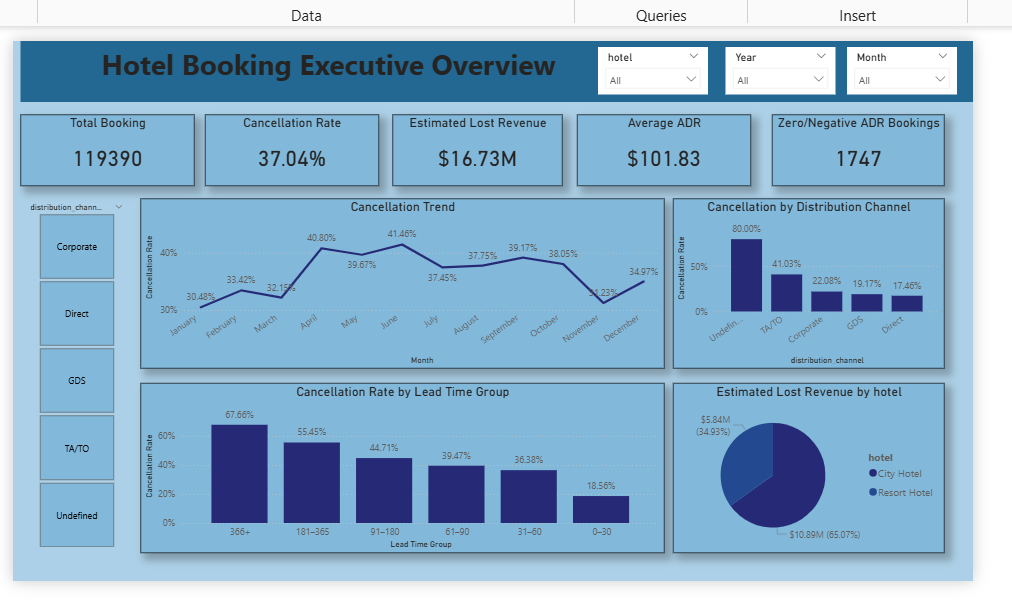

This screenshot's page, from the dashboard's own definition file:
{"tool":"powerbi","page":{"name":"Executive Overview","canvas":[1280,720],"ordinal":0},"visuals":[{"type":"textbox","box":[9.4,0,1269.9,81.3],"z":0},{"type":"card","title":"Total Booking","fields":{"Values":["DAX.Total Booking"]},"box":[10,98.3,231.7,95],"z":1000},{"type":"card","title":"Cancellation Rate","fields":{"Values":["DAX.Cancellation Rate"]},"box":[256.7,98.3,231.7,95],"z":2000},{"type":"card","title":"Estimated Lost Revenue","fields":{"Values":["DAX.Estimated Lost Revenue"]},"box":[506.7,98.3,226.7,95],"z":3000},{"type":"card","title":"Average ADR","fields":{"Values":["DAX.Average ADR"]},"box":[751.7,98.3,231.7,95],"z":4000},{"type":"card","title":"Zero/Negative ADR Bookings","fields":{"Values":["DAX.Zero Negative ADR"]},"box":[1011.7,98.3,230,95],"z":5000},{"type":"lineChart","title":"Cancellation Trend","fields":{"Category":["hotel_booking_clean.arrival_date.Variation.Date Hierarchy.Month"],"Y":["DAX.Cancellation Rate"]},"box":[170,210,698.3,226.7],"z":6000},{"type":"clusteredColumnChart","fields":{"Category":["hotel_booking_clean.Lead Time Group"],"Y":["DAX.Cancellation Rate"]},"box":[170,455,698.3,226.7],"z":7000},{"type":"clusteredColumnChart","title":"Cancellation by Distribution Channel","fields":{"Category":["hotel_booking_clean.distribution_channel"],"Y":["DAX.Cancellation Rate"]},"box":[880,210,361.7,226.7],"z":8000},{"type":"pieChart","fields":{"Category":["hotel_booking_clean.hotel"],"Y":["DAX.Estimated Lost Revenue"]},"box":[880,455,361.7,226.7],"z":9000},{"type":"slicer","fields":{"Values":["hotel_booking_clean.distribution_channel"]},"box":[10,210,148.3,471.7],"z":10000},{"type":"slicer","fields":{"Values":["hotel_booking_clean.hotel"]},"box":[780,8.3,146.7,63.3],"z":11000},{"type":"slicer","fields":{"Values":["hotel_booking_clean.arrival_date.Variation.Date Hierarchy.Year"]},"box":[950,8.3,146.7,63.3],"z":12000},{"type":"slicer","fields":{"Values":["hotel_booking_clean.arrival_date.Variation.Date Hierarchy.Month"]},"box":[1111.7,8.3,146.7,63.3],"z":13000}]}

Visuals, with their boxes in screenshot pixels (x1, y1, x2, y2):
textbox: {"x1": 15, "y1": 37, "x2": 970, "y2": 98}
"Total Booking" card: {"x1": 15, "y1": 111, "x2": 190, "y2": 182}
"Cancellation Rate" card: {"x1": 201, "y1": 111, "x2": 375, "y2": 182}
"Estimated Lost Revenue" card: {"x1": 389, "y1": 111, "x2": 559, "y2": 182}
"Average ADR" card: {"x1": 573, "y1": 111, "x2": 747, "y2": 182}
"Zero/Negative ADR Bookings" card: {"x1": 769, "y1": 111, "x2": 942, "y2": 182}
"Cancellation Trend" lineChart: {"x1": 136, "y1": 195, "x2": 661, "y2": 365}
clusteredColumnChart - hotel_booking_clean.Lead Time Group x DAX.Cancellation Rate: {"x1": 136, "y1": 379, "x2": 661, "y2": 550}
"Cancellation by Distribution Channel" clusteredColumnChart: {"x1": 670, "y1": 195, "x2": 942, "y2": 365}
pieChart - hotel_booking_clean.hotel x DAX.Estimated Lost Revenue: {"x1": 670, "y1": 379, "x2": 942, "y2": 550}
slicer - hotel_booking_clean.distribution_channel: {"x1": 15, "y1": 195, "x2": 127, "y2": 550}
slicer - hotel_booking_clean.hotel: {"x1": 595, "y1": 43, "x2": 705, "y2": 91}
slicer - hotel_booking_clean.arrival_date.Variation.Date Hierarchy.Year: {"x1": 722, "y1": 43, "x2": 833, "y2": 91}
slicer - hotel_booking_clean.arrival_date.Variation.Date Hierarchy.Month: {"x1": 844, "y1": 43, "x2": 954, "y2": 91}
